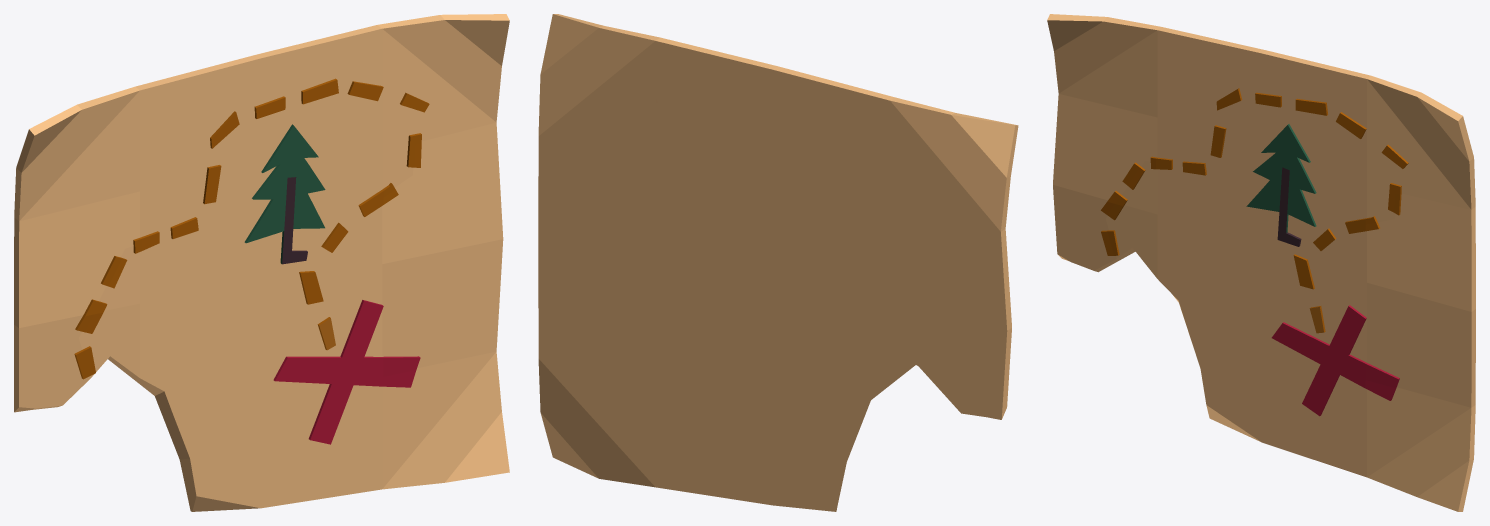
The model's file is QuestNotice 04.fbx.
The picture shows the model from 3 angles, left to right: view 1: azimuth 30°, elevation 25°; view 2: azimuth 150°, elevation 25°; view 3: azimuth 330°, elevation 25°; orthographic projection. The views are drawn at different scales.
Visible parts, largest first — view 1: QuestNotice 04; view 2: QuestNotice 04; view 3: QuestNotice 04.
Boxes of the visible parts, <box> form: QuestNotice 04: <box>14,14,509,511</box>; QuestNotice 04: <box>538,14,1018,511</box>; QuestNotice 04: <box>1047,14,1475,511</box>.
Size of the model in its own units: 36.74 by 33.99 by 2.54.
